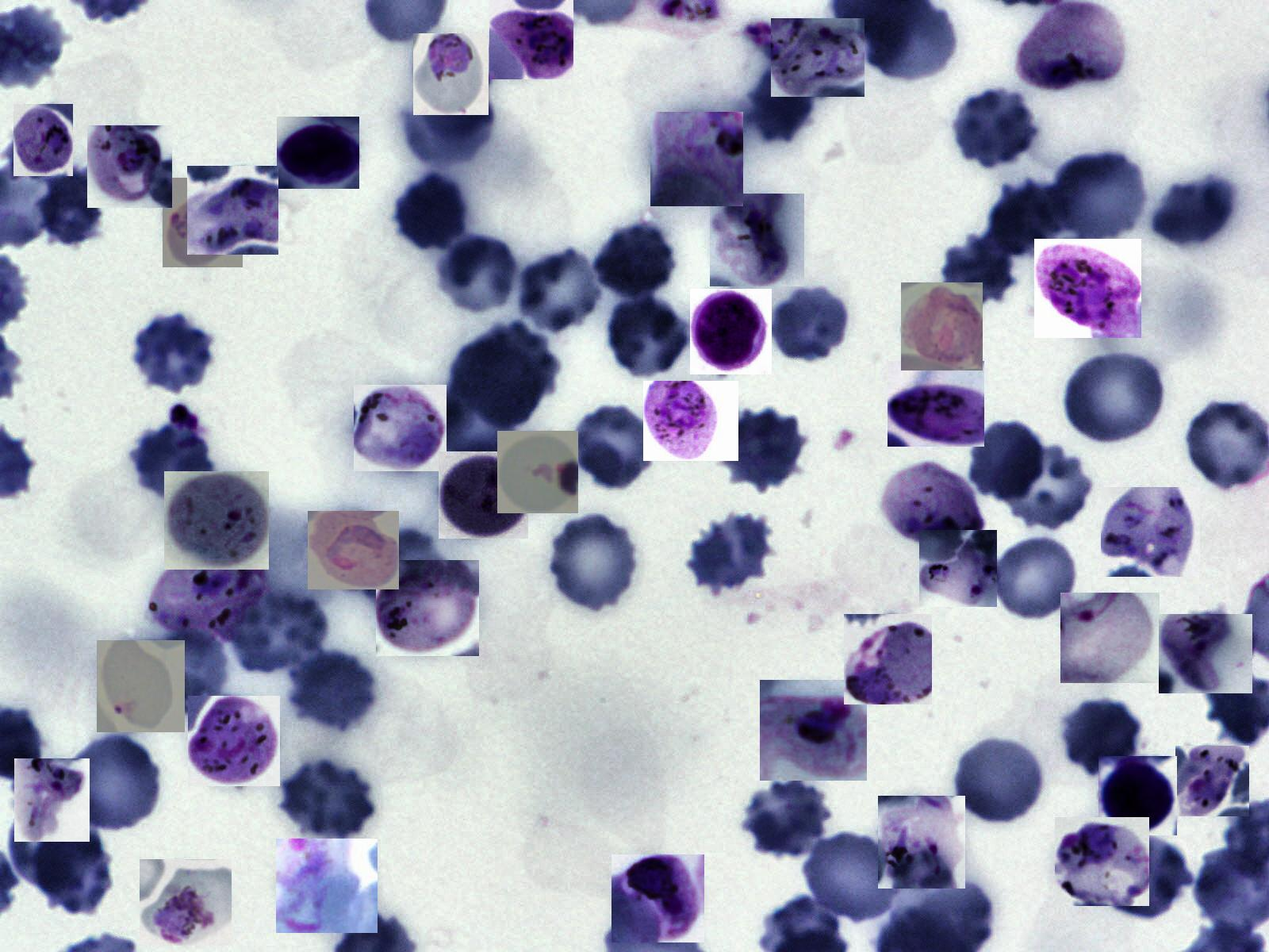Infected: (149, 550, 270, 643), (760, 680, 867, 781), (1034, 239, 1141, 338), (164, 471, 269, 570), (1015, 1, 1125, 94), (376, 560, 479, 656), (276, 839, 378, 933), (879, 463, 985, 551), (1060, 593, 1160, 683), (1101, 487, 1200, 577), (650, 112, 743, 206), (710, 194, 804, 286), (1055, 817, 1149, 906), (188, 696, 280, 786), (888, 361, 984, 447), (611, 854, 704, 942), (187, 166, 278, 255), (97, 640, 185, 732), (878, 796, 965, 889), (140, 859, 232, 946), (354, 385, 447, 471), (844, 614, 932, 704), (439, 451, 528, 539), (643, 381, 738, 461), (771, 18, 865, 97), (1159, 614, 1252, 693), (901, 282, 983, 370), (163, 178, 243, 267), (308, 511, 399, 589), (87, 125, 172, 208), (690, 289, 772, 374), (497, 431, 578, 513), (489, 0, 573, 79), (14, 758, 90, 842), (1098, 756, 1177, 835), (413, 34, 489, 115), (919, 530, 997, 607), (277, 117, 359, 189), (1175, 746, 1249, 816), (13, 104, 73, 176)
Uninfected: (450, 326, 554, 432), (1060, 349, 1170, 446), (64, 733, 165, 833), (544, 511, 642, 614), (803, 827, 903, 925), (224, 588, 327, 678), (1049, 150, 1147, 240), (952, 737, 1048, 827), (1000, 444, 1097, 531), (987, 536, 1082, 622), (277, 757, 375, 840), (286, 648, 379, 734), (604, 293, 692, 380), (396, 95, 496, 171), (435, 233, 523, 319), (950, 87, 1041, 170), (569, 405, 658, 489), (433, 379, 514, 470), (363, 528, 447, 615), (1150, 174, 1242, 252), (1104, 838, 1190, 920), (721, 408, 808, 489), (146, 629, 228, 714), (688, 514, 774, 595), (128, 316, 217, 394), (743, 781, 830, 860), (1060, 697, 1144, 777), (33, 829, 113, 913), (593, 219, 678, 298), (518, 251, 596, 336), (126, 424, 217, 496), (938, 231, 1021, 309), (987, 179, 1068, 255), (969, 423, 1045, 500), (391, 177, 467, 249), (748, 67, 818, 144), (36, 171, 107, 246), (775, 284, 845, 359)
